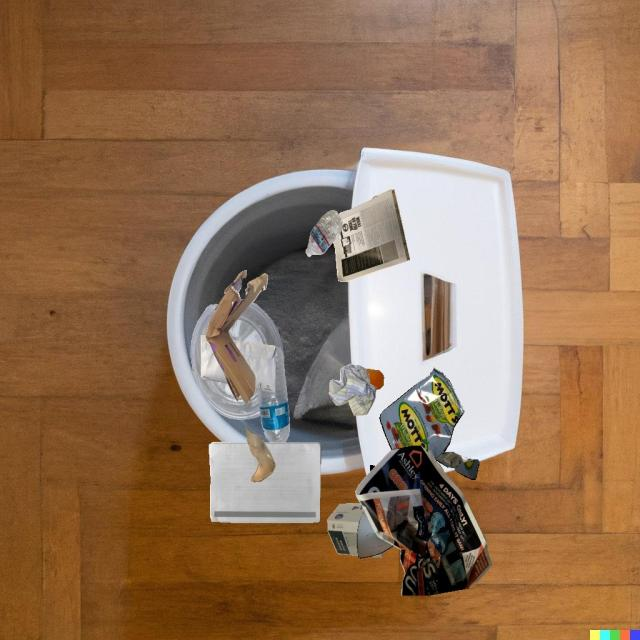cardboard: (205, 270, 268, 403), (327, 503, 364, 556)
glass: (246, 426, 275, 482)
paper: (355, 446, 492, 595), (209, 442, 322, 523), (333, 189, 410, 282), (329, 364, 376, 415), (232, 339, 276, 393), (357, 511, 394, 558), (201, 335, 228, 383)
plastic: (191, 303, 260, 420), (228, 302, 284, 363), (258, 347, 290, 443), (306, 210, 342, 257), (365, 368, 384, 390)
trash: (380, 368, 479, 480)
